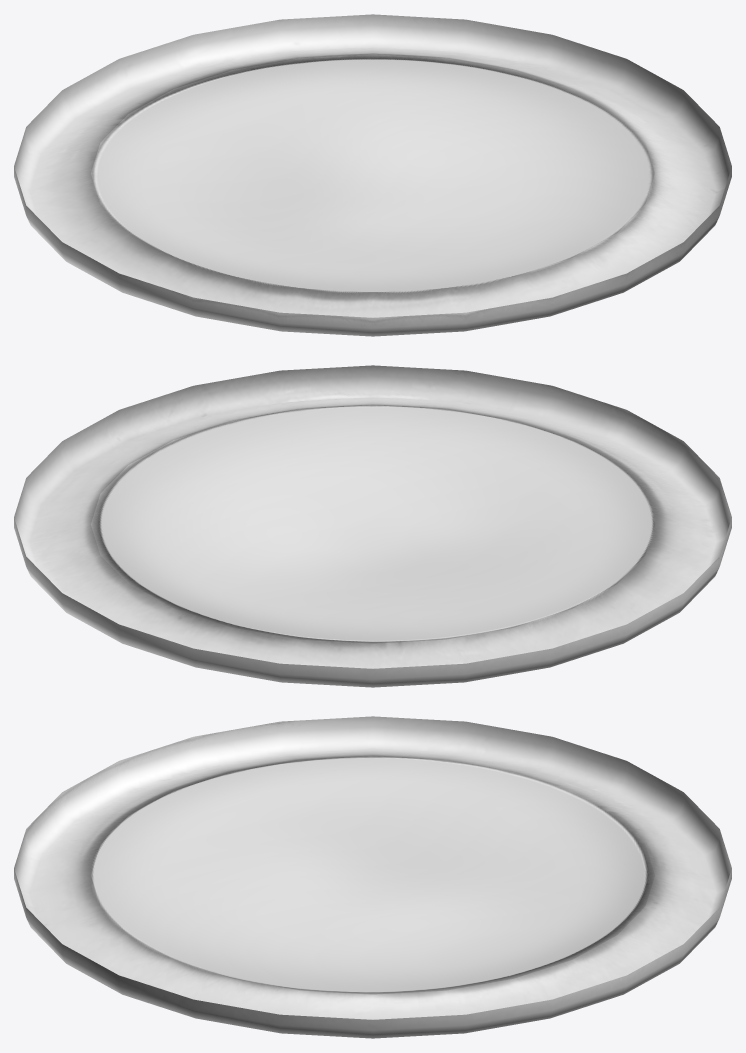
The model's file is VentCover01_1.FBX.
The picture shows the model from 3 angles, top to bottom: view 1: azimuth 30°, elevation 25°; view 2: azimuth 150°, elevation 25°; view 3: azimuth 270°, elevation 25°; orthographic projection.
Parts seen in each view (by area): view 1: VentCover01_1; view 2: VentCover01_1; view 3: VentCover01_1.
Boxes of the visible parts, x1=… form: VentCover01_1: x1=14, y1=14, x2=731, y2=336; VentCover01_1: x1=14, y1=365, x2=731, y2=687; VentCover01_1: x1=14, y1=716, x2=731, y2=1038.
Bounding box in the file's own units: 30 × 1.39 × 30.
